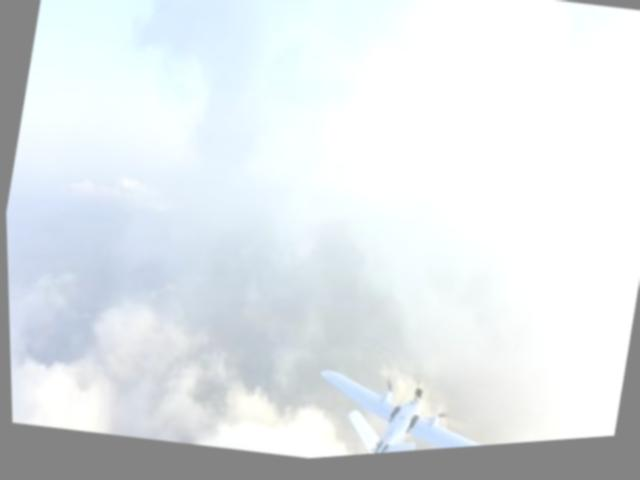uav: (301, 356, 515, 463)
